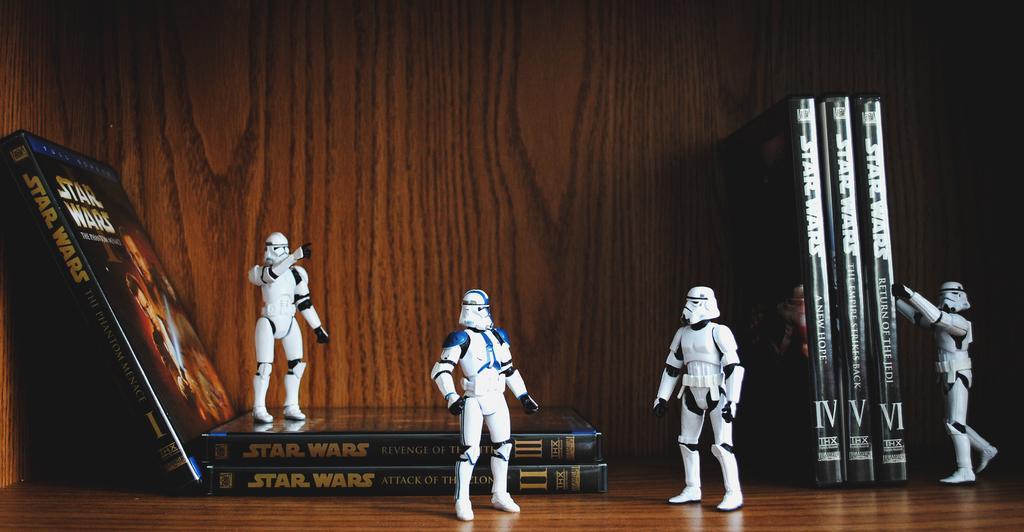Book: (0, 128, 236, 495)
